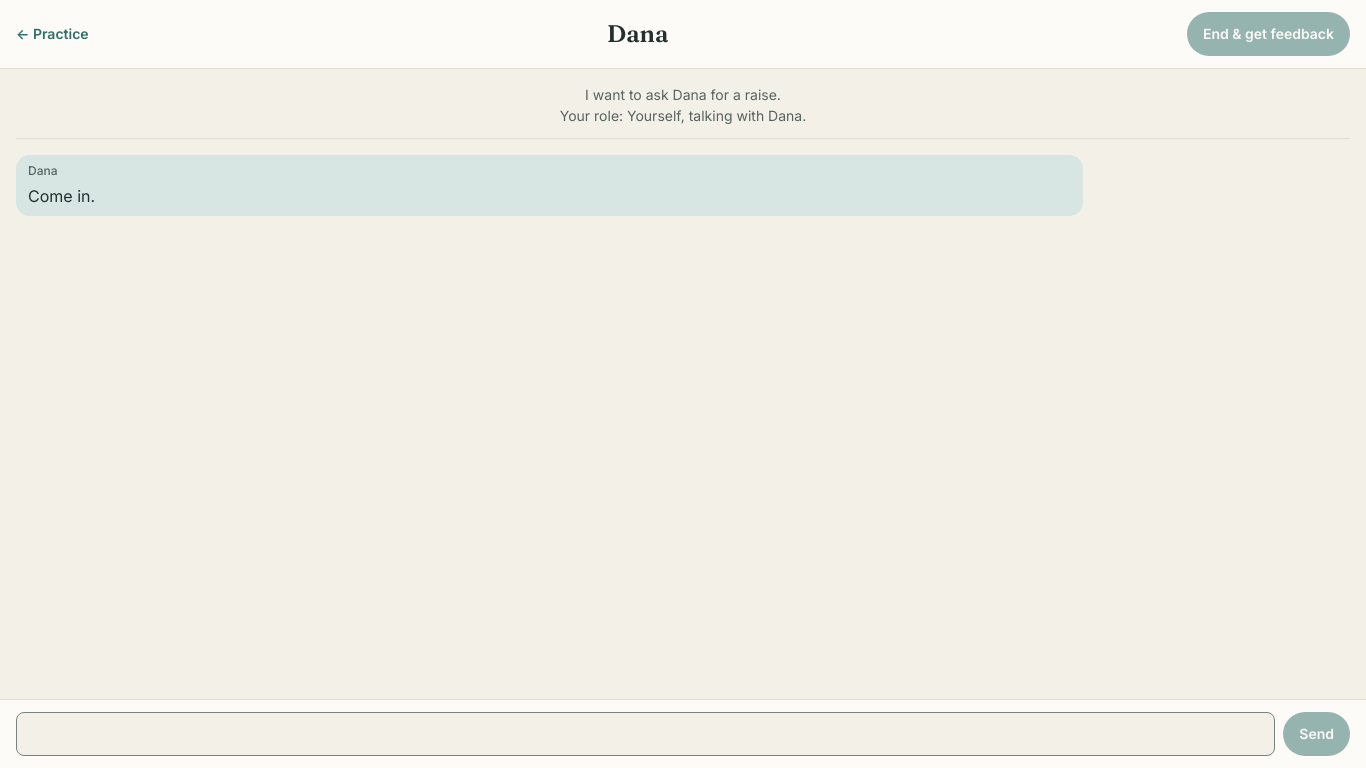
OwnConversationScreen (issue #67) › sends what the user wrote with every reply request, under the Own Scenario's category id and no Scenario id
Check: the text "Come in." is shown, box top-left (28, 186), bottom-right (95, 206)
In the field named "Message": coordinates (646, 734) top-left (16, 712), bottom-right (1275, 756), type "Thanks for making time."
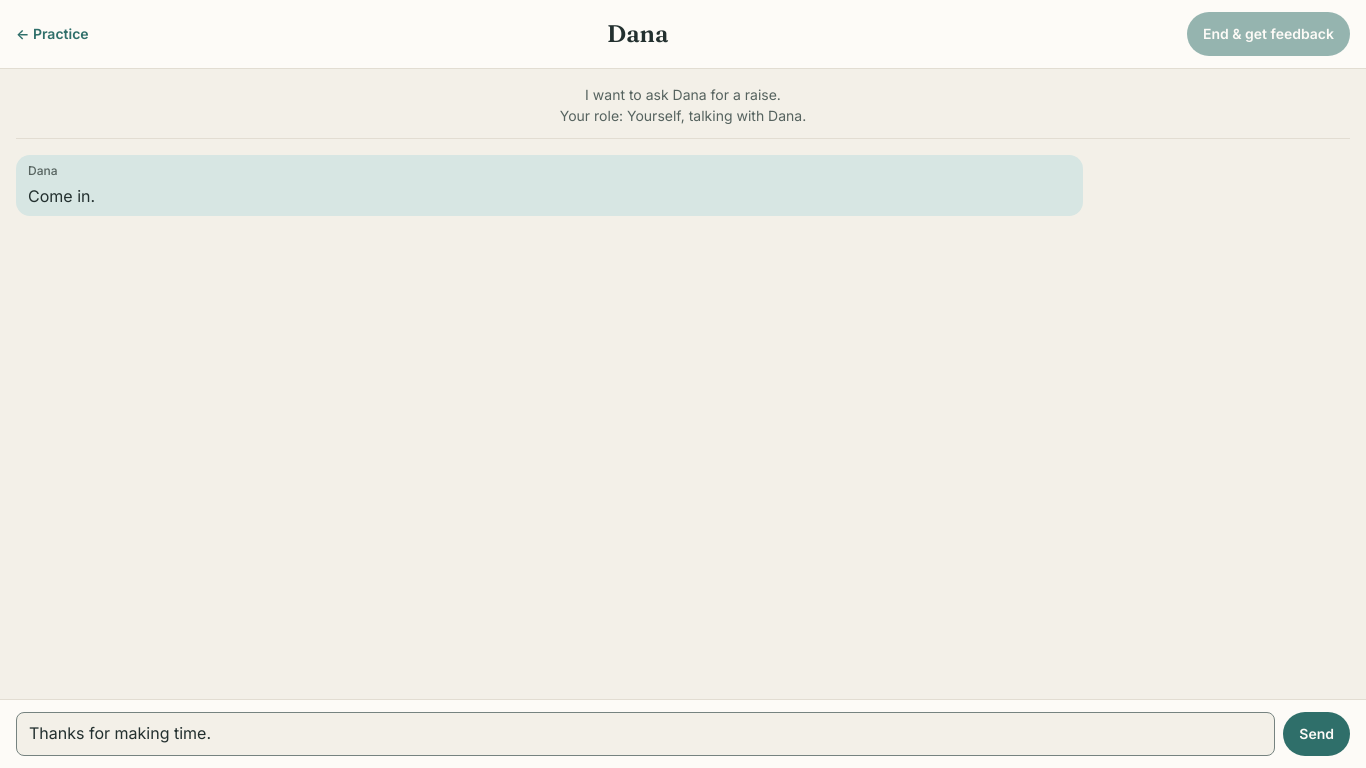
Click the button "Send": coordinates (1317, 734) top-left (1283, 712), bottom-right (1350, 756)
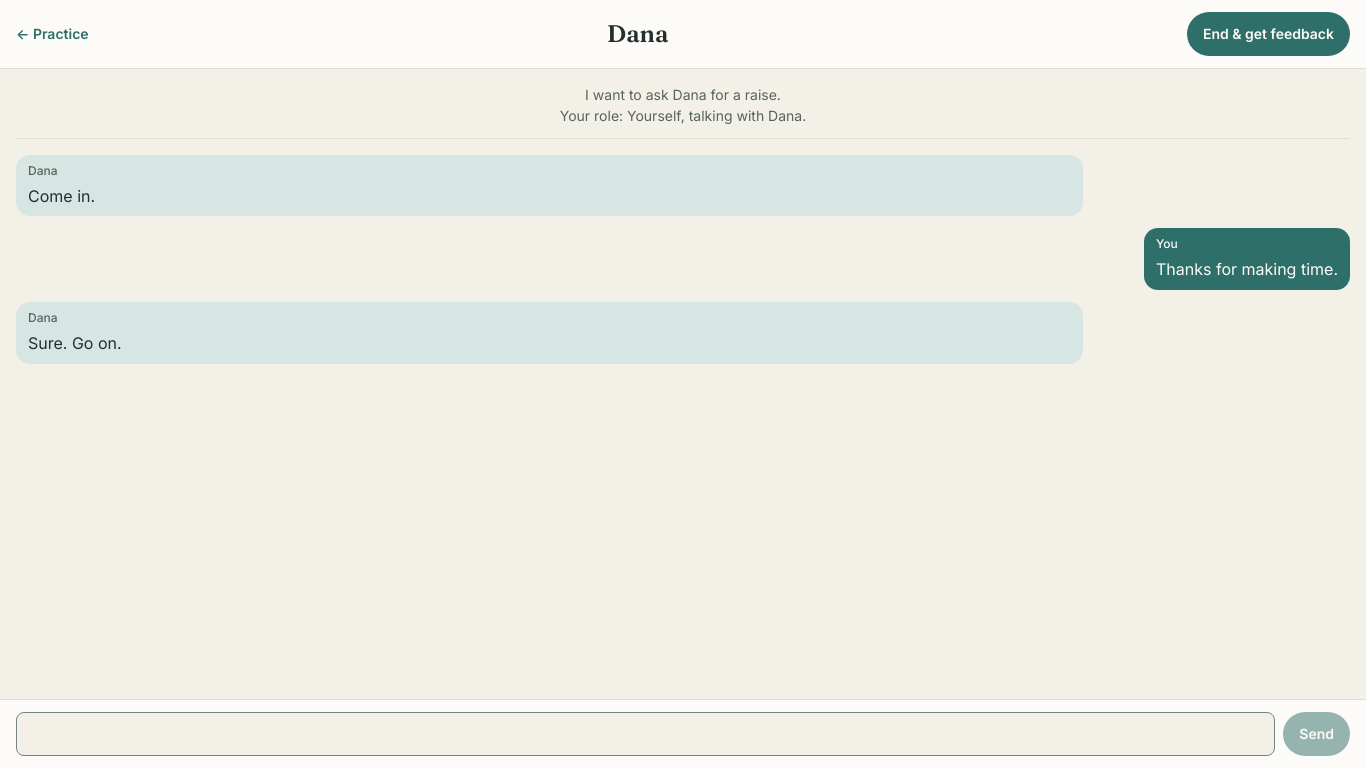
Check: the text "Sure. Go on." is shown, box top-left (28, 333), bottom-right (122, 353)
